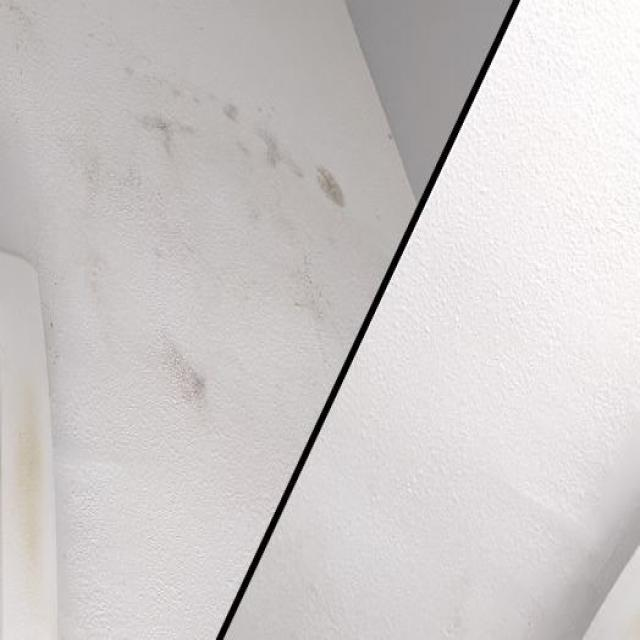Crack: (387, 132, 393, 144)
